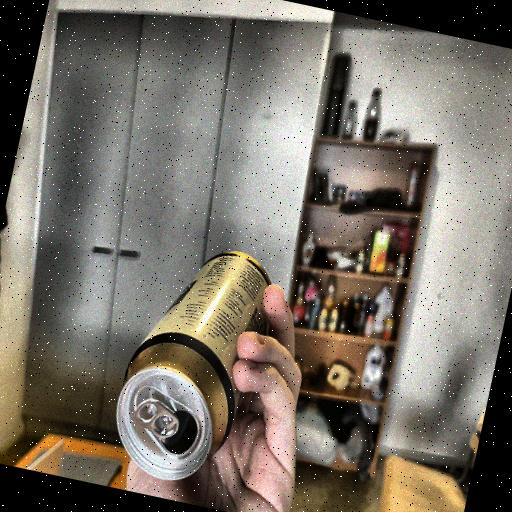sandels: (108, 239, 290, 480)
